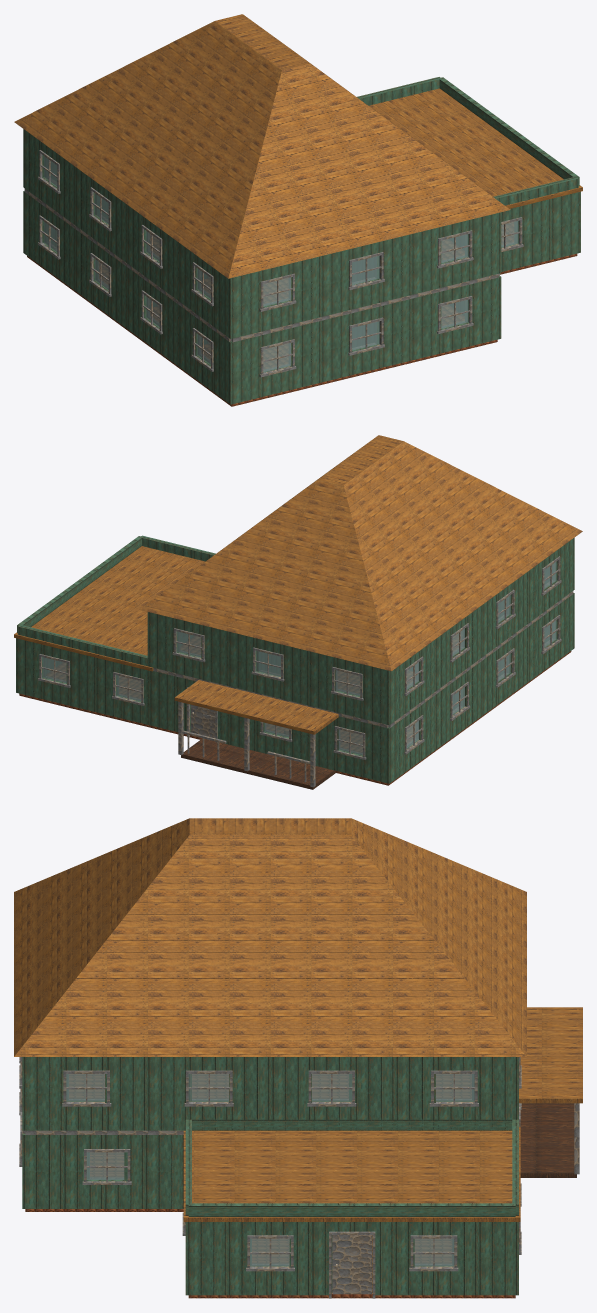
The model's file is juniper-suite.gltf.
The picture shows the model from 3 angles, top to bottom: view 1: azimuth 30°, elevation 25°; view 2: azimuth 150°, elevation 25°; view 3: azimuth 270°, elevation 25°; orthographic projection. The views are drawn at different scales.
Parts seen in each view (by area): view 1: roof-L1-terracotta, exterior-L0-plaster, exterior-L1-plaster, roof-L0-terracotta, trim-L0-dark-wood, roof-L0-plaster, trim-L1-dark-wood, glazing-L0-glass, glazing-L1-glass, floor-L0-floor, exterior-L0-dark-wood, floor-L1-floor (+1 smaller); view 2: roof-L1-terracotta, exterior-L0-plaster, exterior-L1-plaster, roof-L0-terracotta, porch-L0-terracotta, roof-L0-plaster, trim-L0-dark-wood, porch-L0-stone, trim-L1-dark-wood, glazing-L0-glass, glazing-L1-glass, floor-L0-floor (+4 smaller); view 3: roof-L1-terracotta, exterior-L0-plaster, exterior-L1-plaster, roof-L0-terracotta, roof-L0-plaster, porch-L0-terracotta, glazing-L1-glass, porch-L0-stone, floor-L0-floor, trim-L0-dark-wood, trim-L1-dark-wood, glazing-L0-glass (+3 smaller).
Boxes of the visible parts, <box> form: roof-L1-terracotta: <box>14,14,510,278</box>; exterior-L0-plaster: <box>23,191,580,404</box>; exterior-L1-plaster: <box>23,129,501,338</box>; roof-L0-terracotta: <box>369,88,582,208</box>; trim-L0-dark-wood: <box>38,215,523,377</box>; roof-L0-plaster: <box>357,77,579,205</box>; trim-L1-dark-wood: <box>38,150,473,311</box>; glazing-L0-glass: <box>44,221,518,371</box>; glazing-L1-glass: <box>44,156,468,306</box>; floor-L0-floor: <box>27,222,577,406</box>; exterior-L0-dark-wood: <box>24,188,499,342</box>; floor-L1-floor: <box>150,234,464,303</box>; roof-L1-terracotta: <box>140,435,582,671</box>; exterior-L0-plaster: <box>16,593,574,783</box>; exterior-L1-plaster: <box>147,538,574,725</box>; roof-L0-terracotta: <box>14,546,204,671</box>; porch-L0-terracotta: <box>174,680,338,734</box>; roof-L0-plaster: <box>17,535,215,666</box>; trim-L0-dark-wood: <box>38,615,561,759</box>; porch-L0-stone: <box>181,738,335,789</box>; trim-L1-dark-wood: <box>172,556,561,700</box>; glazing-L0-glass: <box>42,620,556,755</box>; glazing-L1-glass: <box>177,562,556,696</box>; floor-L0-floor: <box>19,651,571,785</box>; roof-L1-terracotta: <box>14,818,526,1056</box>; exterior-L0-plaster: <box>22,1133,518,1295</box>; exterior-L1-plaster: <box>22,1057,518,1130</box>; roof-L0-terracotta: <box>183,1127,520,1221</box>; roof-L0-plaster: <box>185,1119,518,1216</box>; porch-L0-terracotta: <box>519,1007,582,1103</box>; glazing-L1-glass: <box>66,1074,474,1101</box>; porch-L0-stone: <box>520,1103,576,1177</box>; floor-L0-floor: <box>25,1153,515,1298</box>; trim-L0-dark-wood: <box>19,1057,521,1298</box>; trim-L1-dark-wood: <box>19,1057,521,1106</box>; glazing-L0-glass: <box>86,1152,454,1266</box>.
Bounding box in the file's own units: 14.43 × 8.33 × 13.93.
Materials: 10 (9 with a texture image).
